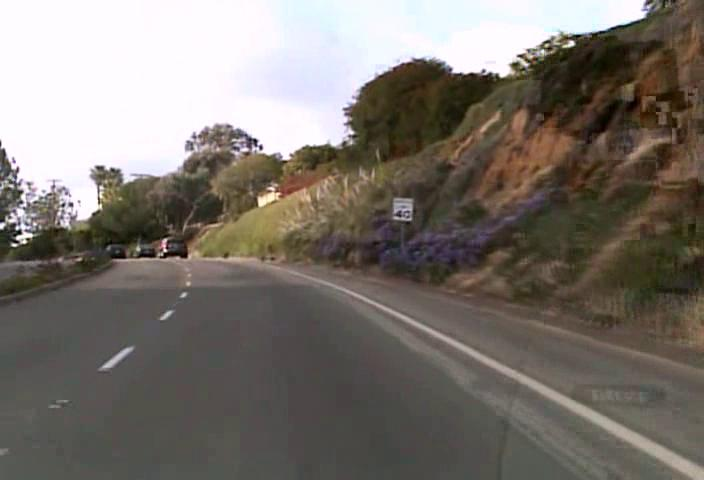speedLimit40: (391, 196, 414, 221)
